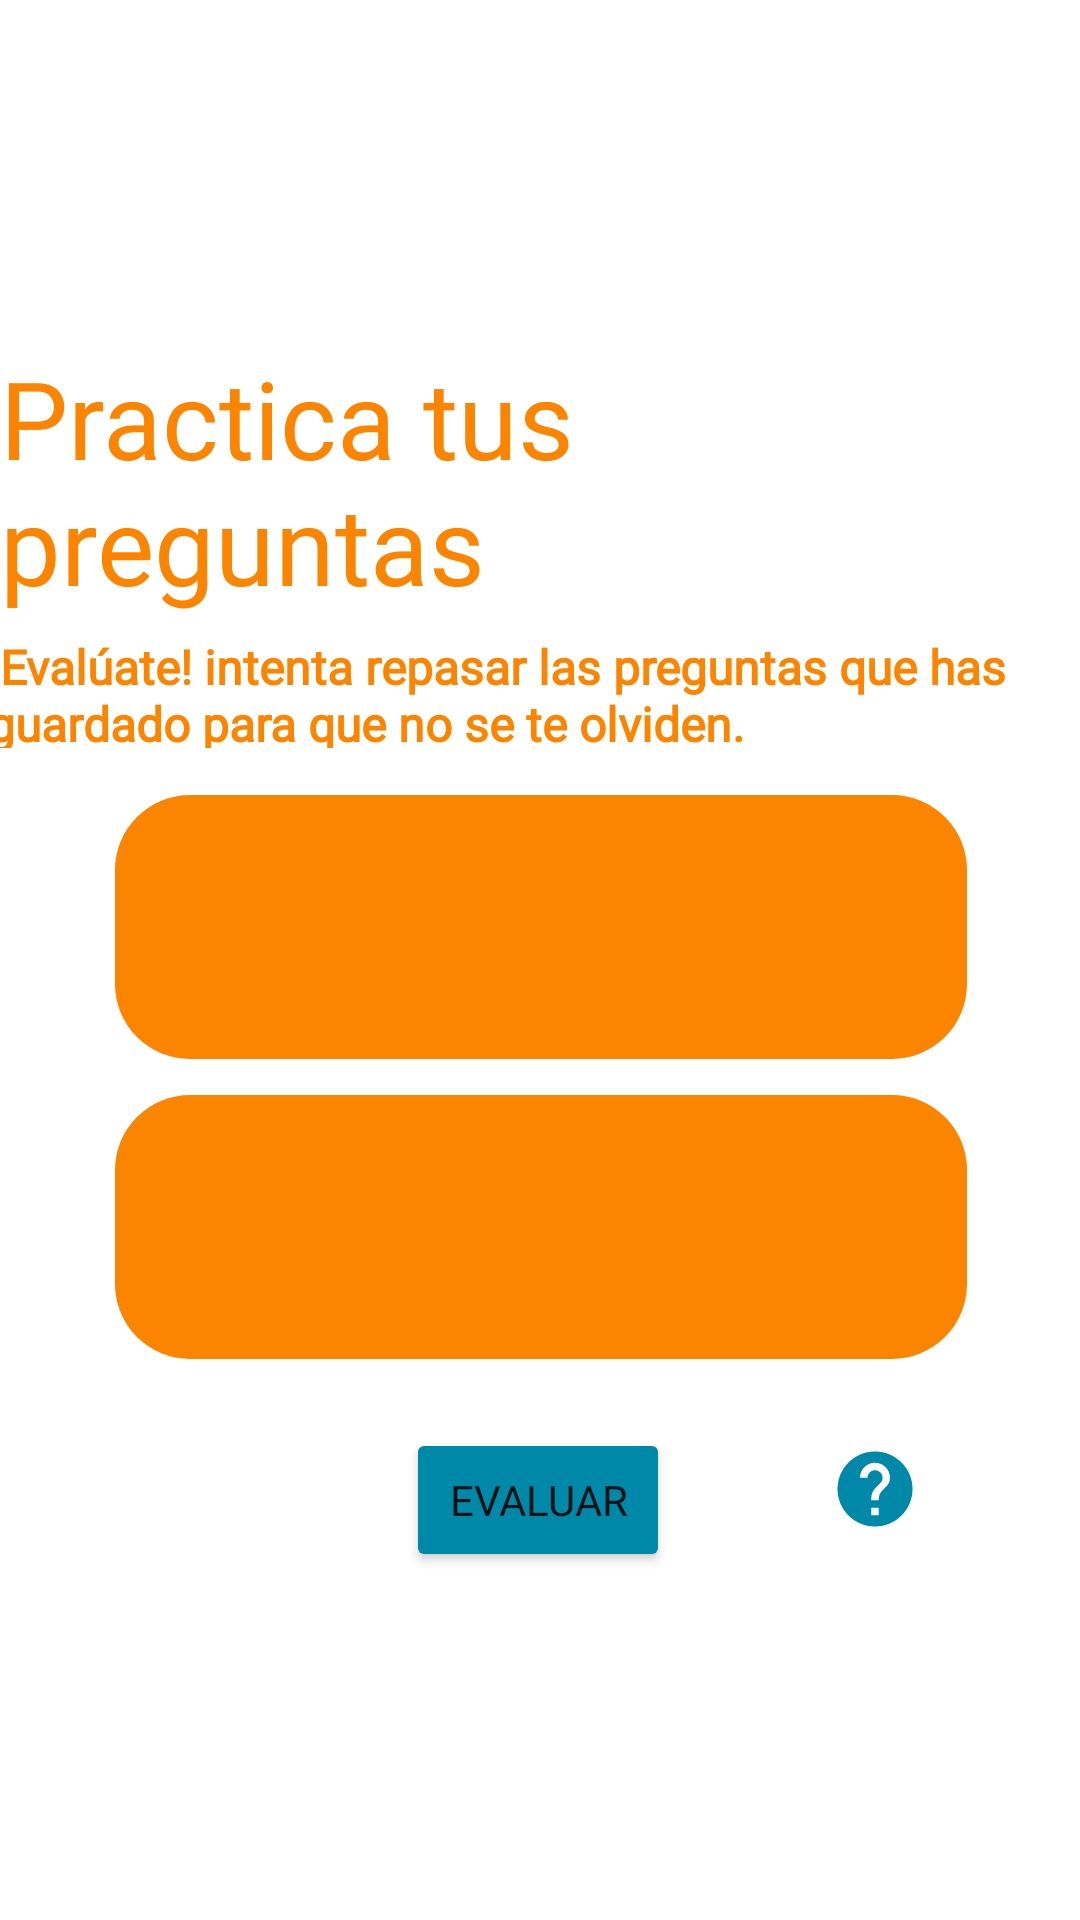

Named icons in this screenshot (1080px×1920px) and their bounding boxes, (x1, y1, x2, y2):
help: (837, 1451, 913, 1527)
